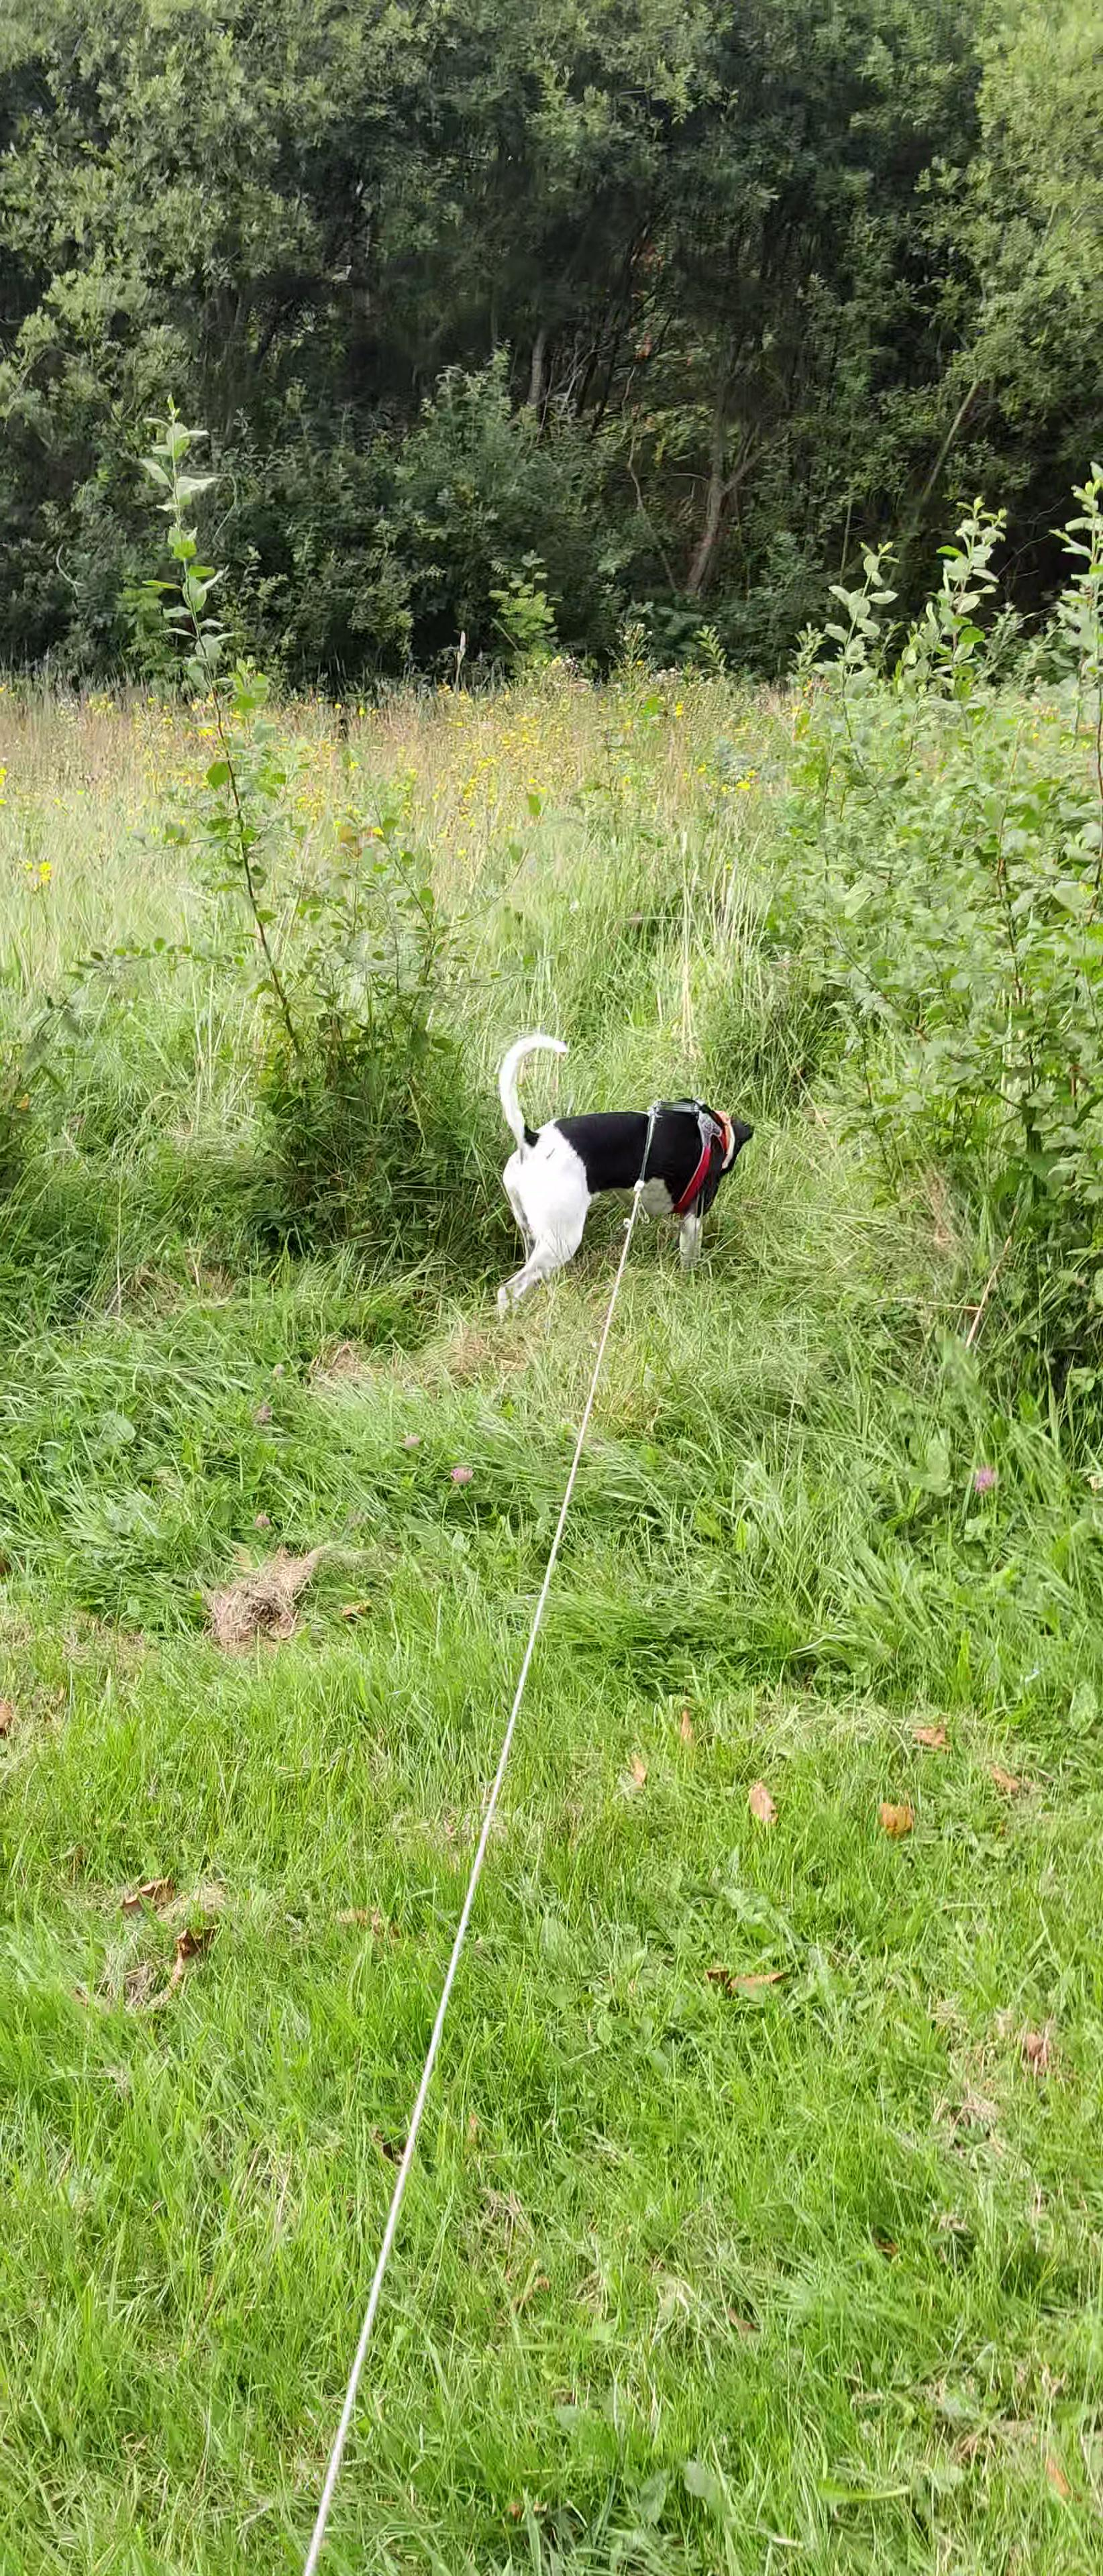Dog: (475, 1028, 759, 1309)
